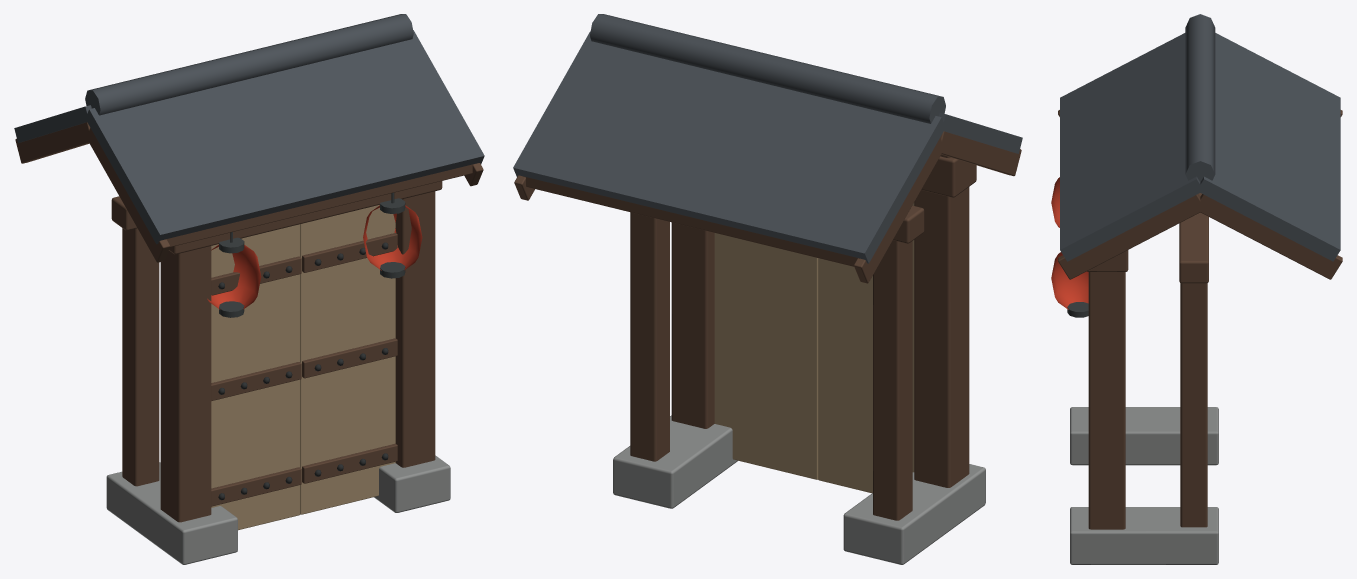
The model's file is village-gate.glb.
3 renders of one model, left to right at view 1: azimuth 30°, elevation 25°; view 2: azimuth 150°, elevation 25°; view 3: azimuth 270°, elevation 25°, orthographic. The views are drawn at different scales.
Parts seen in each view (by area): view 1: village-roof, village-cedar, planks, village-stone, village-vermilion, paint-graphite, steel-dark; view 2: village-roof, village-cedar, planks, village-stone; view 3: village-roof, village-cedar, village-stone, village-vermilion.
Part boxes in pixels (left/top/right/bottom): village-roof: left=14, top=14, right=484, bottom=244; village-cedar: left=15, top=122, right=483, bottom=522; planks: left=211, top=205, right=395, bottom=530; village-stone: left=106, top=455, right=450, bottom=564; village-vermilion: left=207, top=205, right=422, bottom=309; paint-graphite: left=219, top=192, right=405, bottom=317; steel-dark: left=218, top=242, right=388, bottom=500; village-roof: left=513, top=14, right=1022, bottom=263; village-cedar: left=514, top=131, right=1021, bottom=520; planks: left=714, top=202, right=914, bottom=493; village-stone: left=613, top=415, right=985, bottom=564; village-roof: left=1060, top=14, right=1340, bottom=261; village-cedar: left=1058, top=110, right=1342, bottom=529; village-stone: left=1070, top=407, right=1218, bottom=564; village-vermilion: left=1051, top=177, right=1088, bottom=309.
Size of the model in its own units: 2.9 by 3.69 by 2.35.
